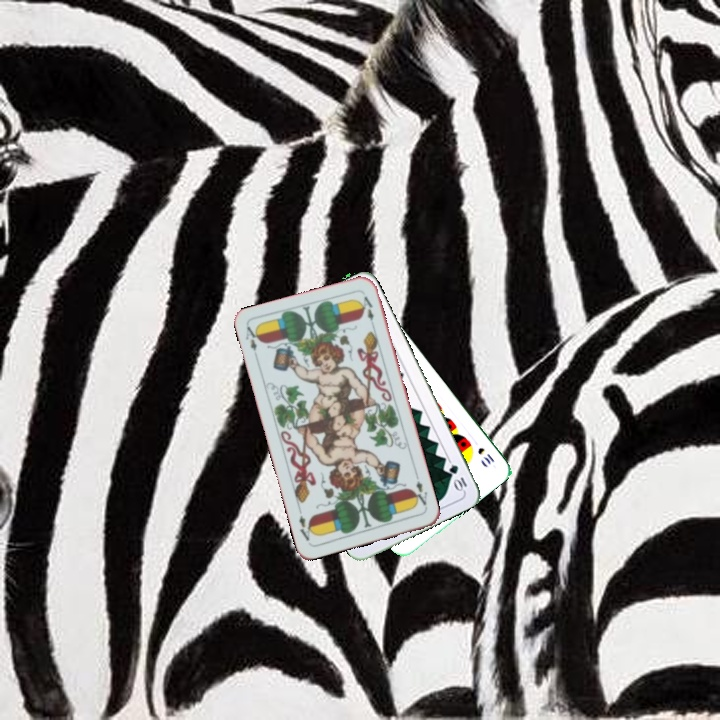EA: (409, 471, 430, 511), (241, 322, 263, 353)
G10: (445, 460, 470, 494)
S10: (474, 443, 497, 467)
